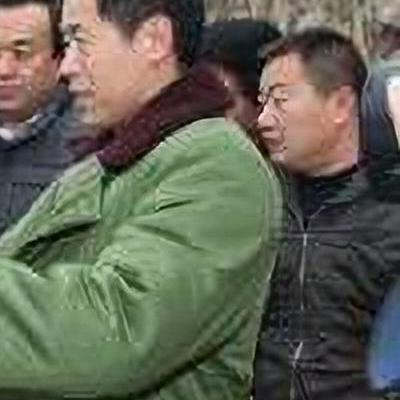hardHat: (240, 14, 373, 179), (53, 0, 200, 128), (197, 16, 285, 139), (0, 0, 69, 117)
